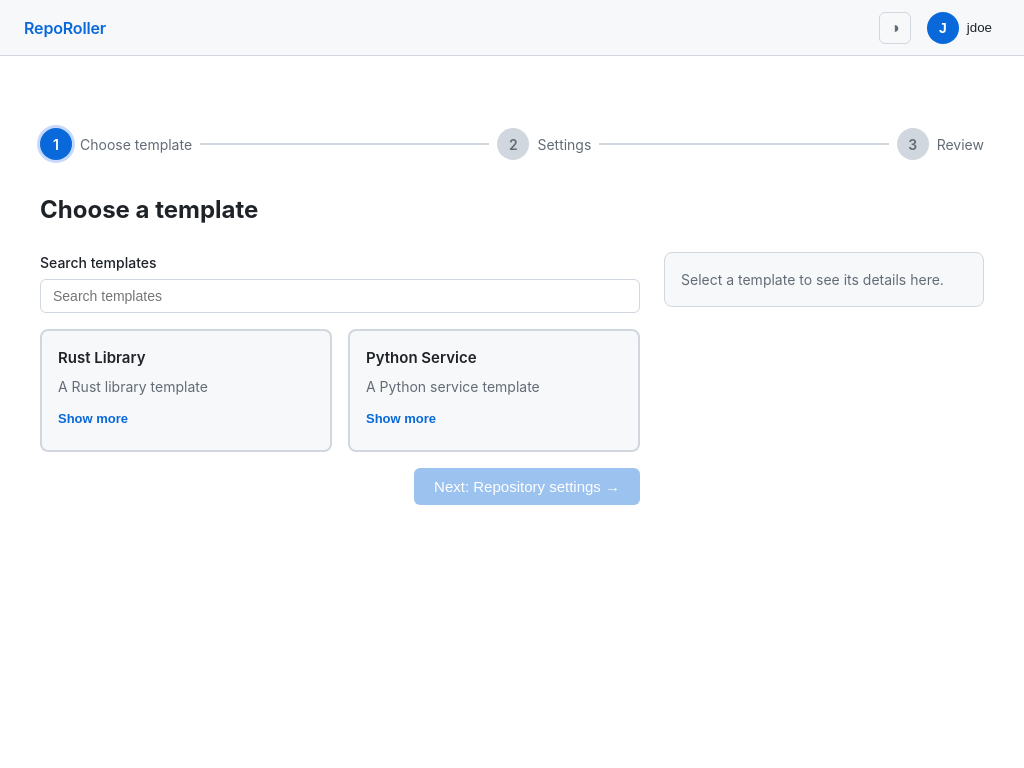
Create wizard (SCR-004) › shows "Template variables" heading on step 3
Note: Advance to step 2
Click the radio button with aria-label "python-service": point(494, 390) [348, 329, 640, 452]
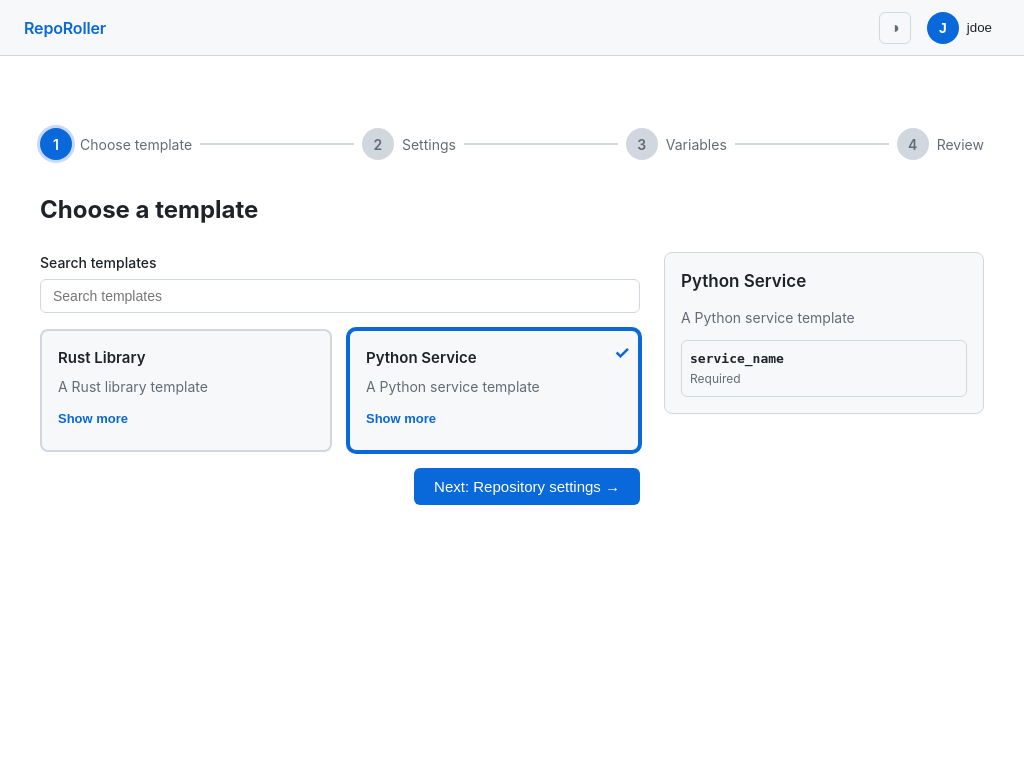
Result: the button "Next: Repository settings →" is enabled
Click the button "Next: Repository settings →": point(527, 486) [414, 468, 640, 504]
(page scrolled)
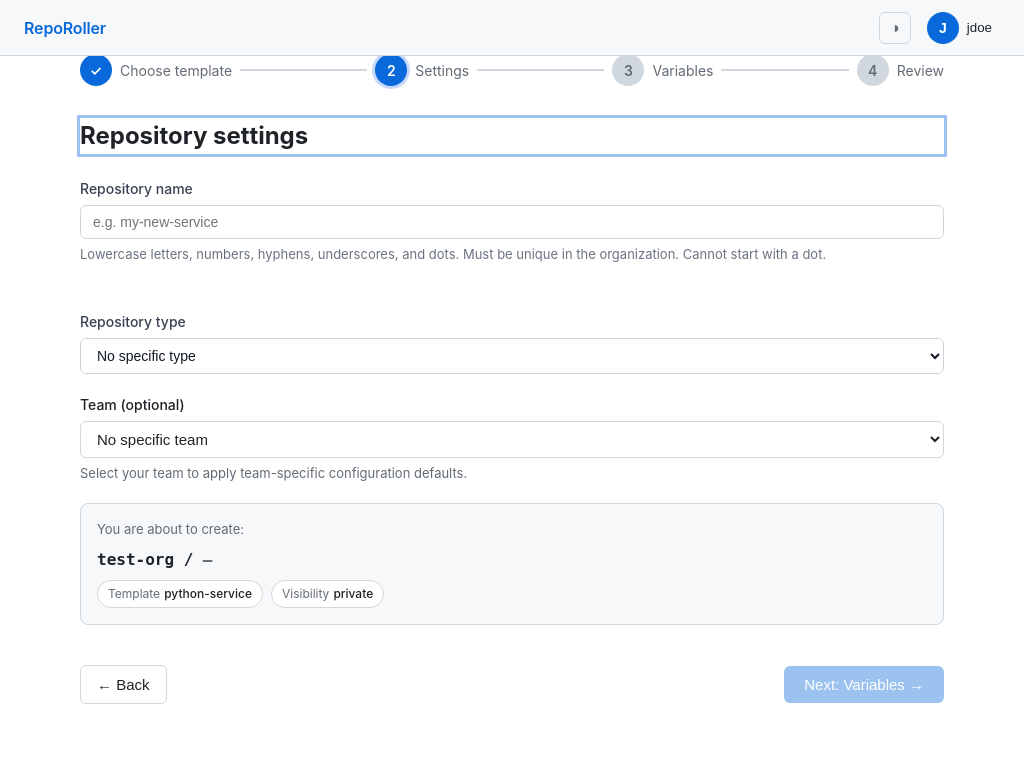
Result: the heading reads "Repository settings" at [80, 121, 308, 150]
Result: the button "Next: Variables →" is shown at [784, 666, 944, 702]
